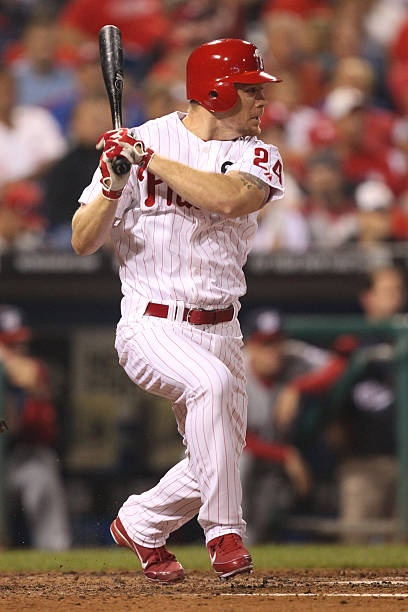bita: (99, 21, 132, 137)
